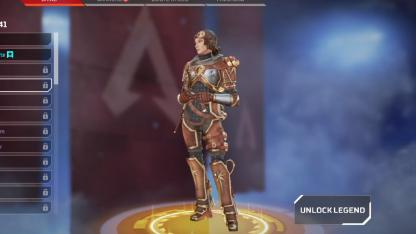Target: (178, 24, 234, 192)
